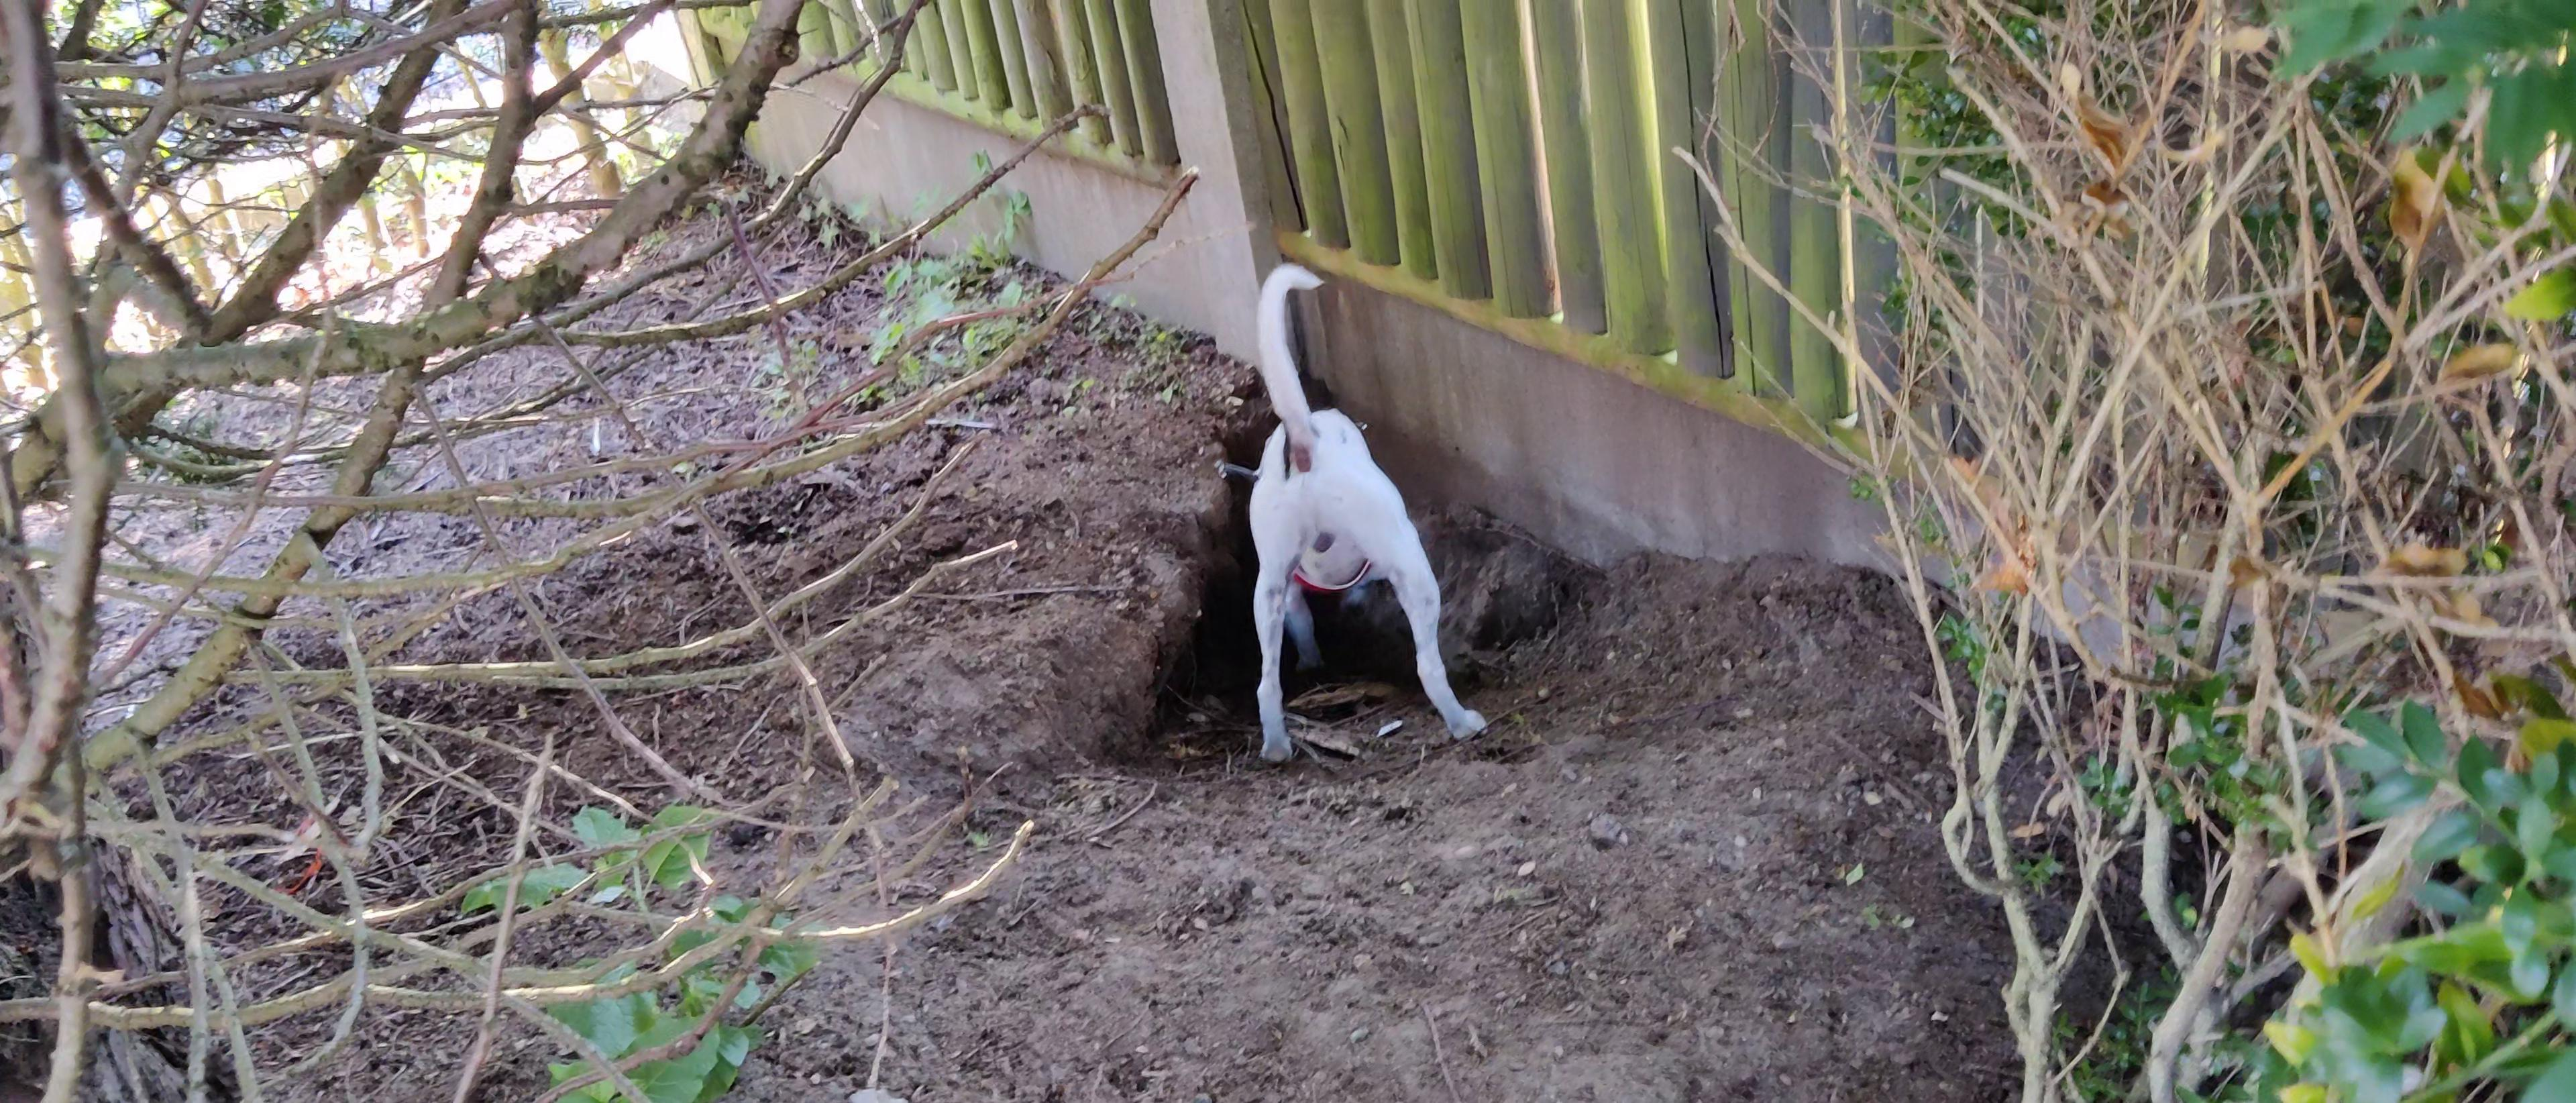Dog: (1214, 247, 1520, 771)
